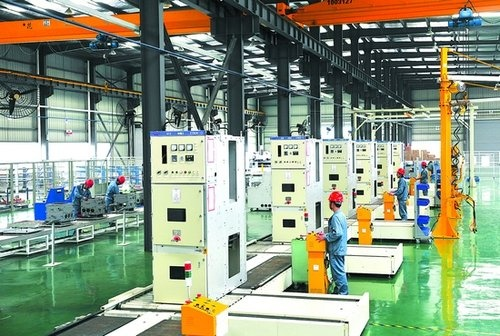red: (325, 190, 344, 212), (83, 178, 94, 190), (115, 175, 126, 186), (395, 167, 405, 179), (420, 161, 428, 169)
